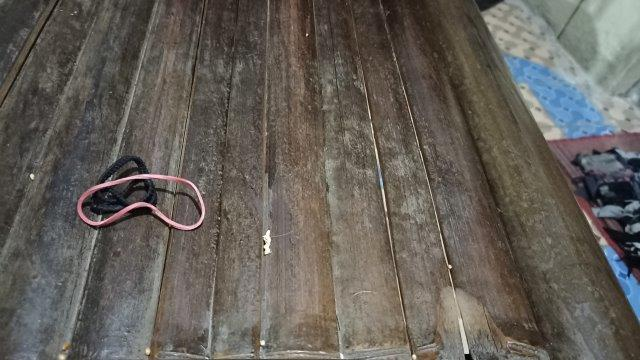karet: (77, 156, 206, 229)
